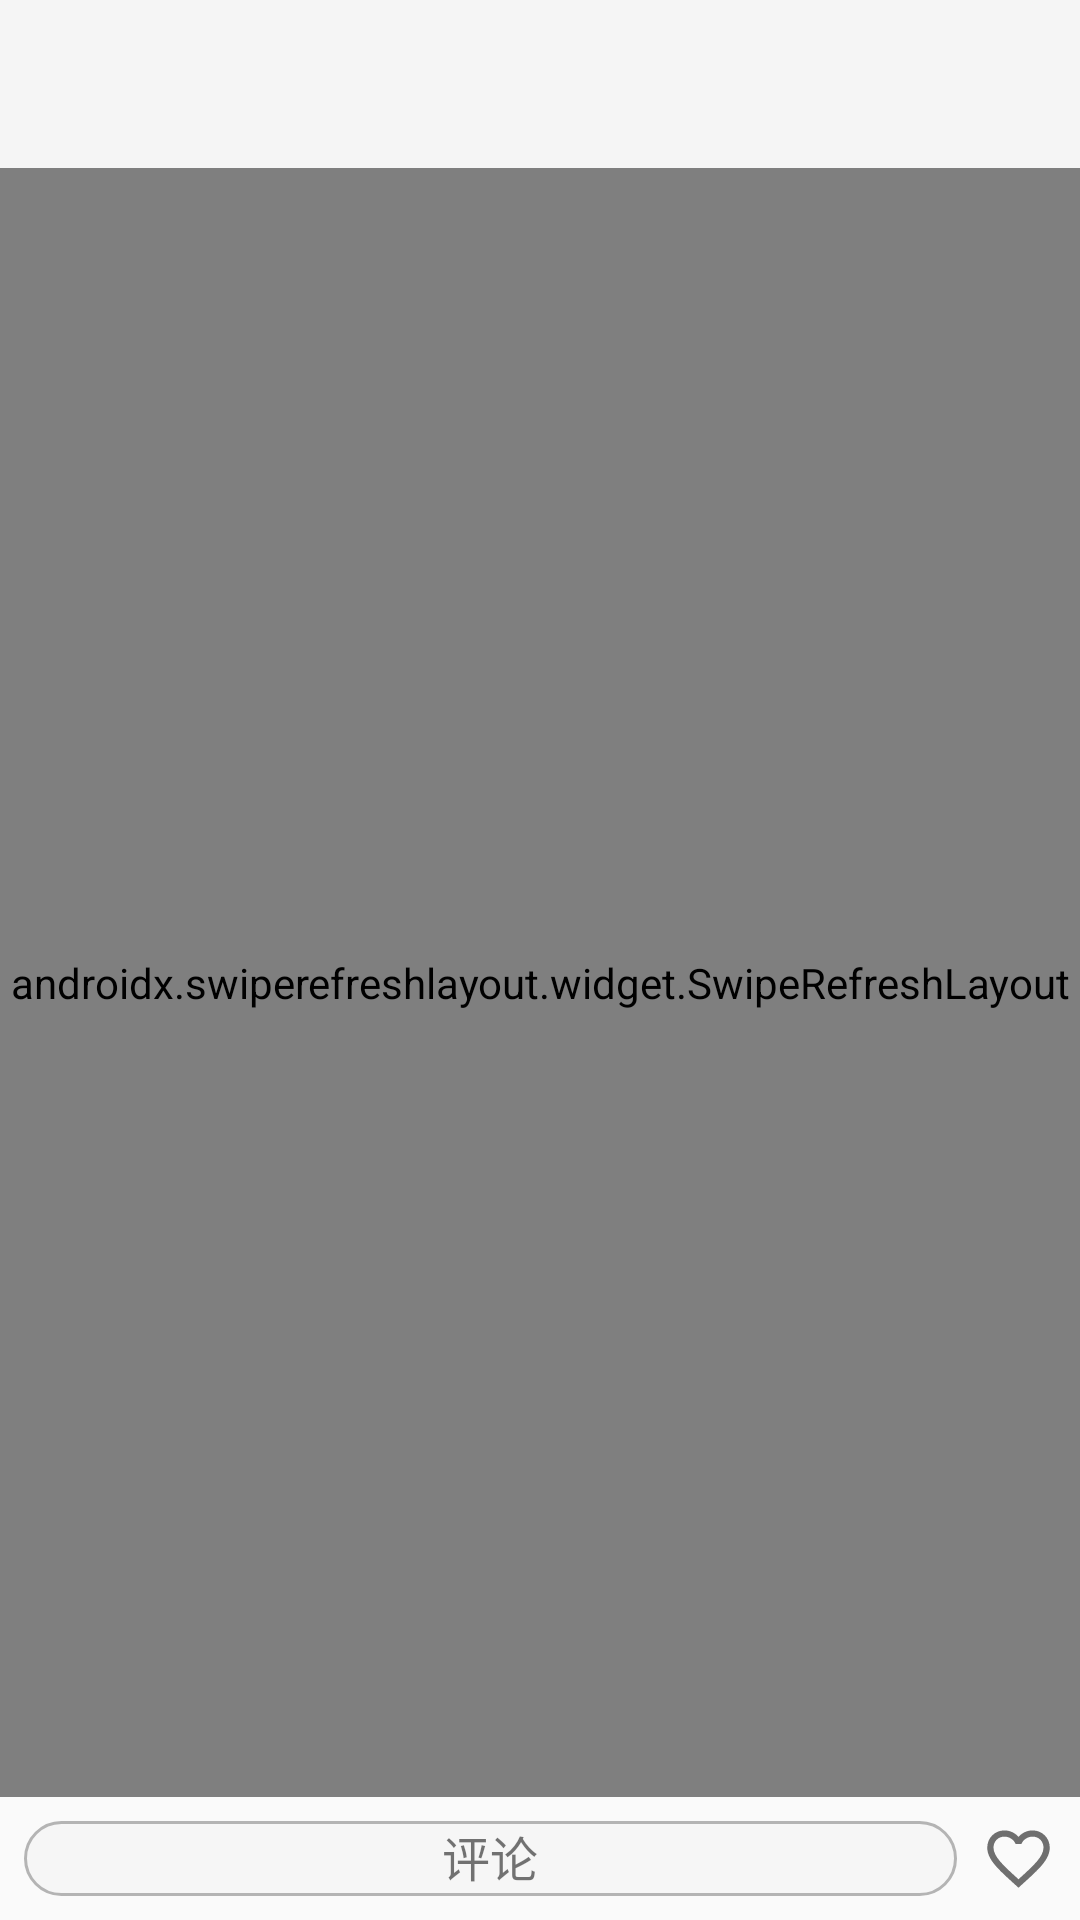

Point at icon controls on the screen. Image size 1080w x 1920h, points as point (x, y).
favorite border: point (1018, 1859)
